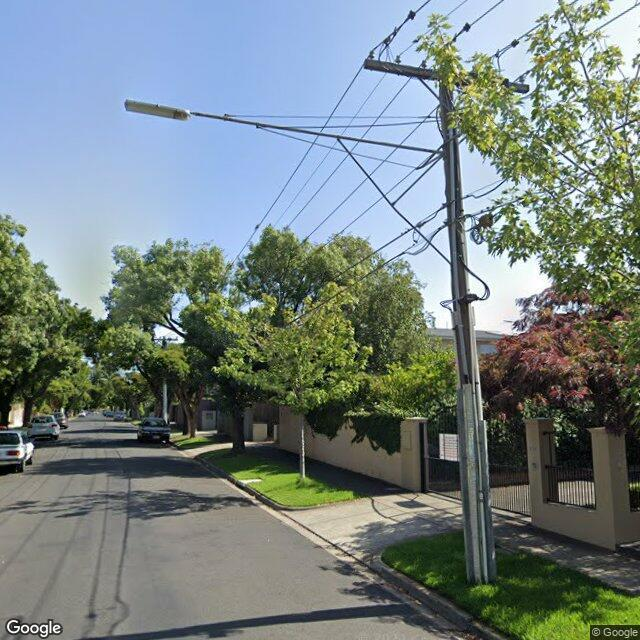crossarm: (363, 10, 530, 94)
streetlight: (124, 98, 445, 156)
timber-pole: (438, 80, 497, 584)
